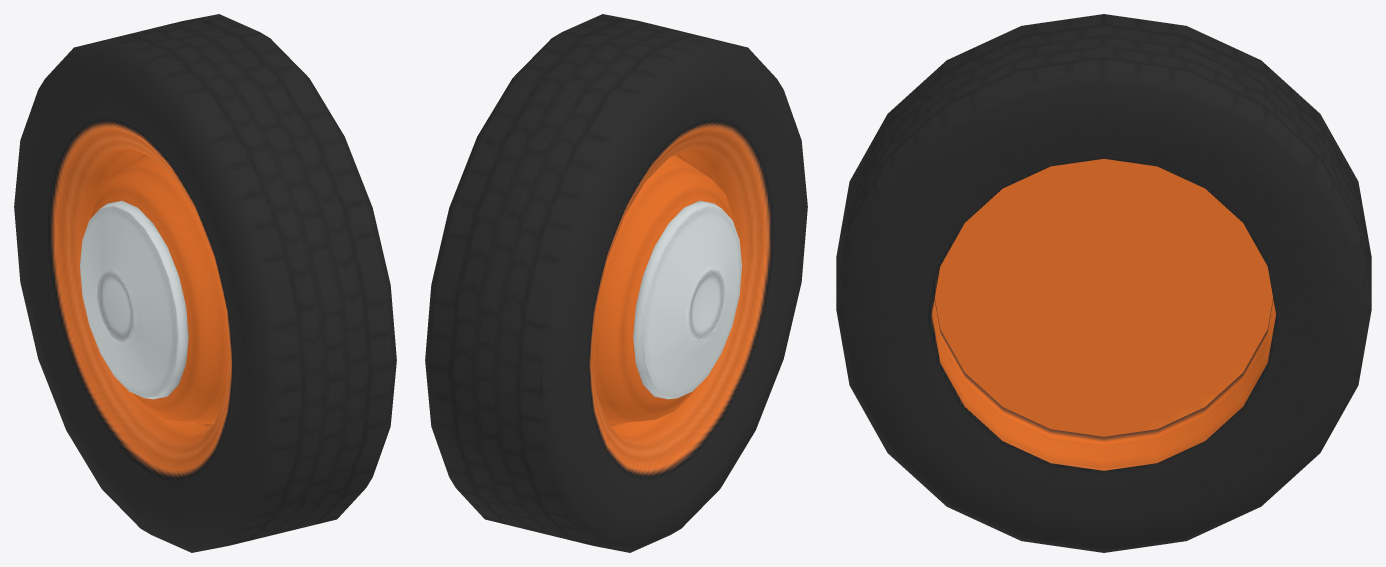
Rendered from wheel_right.glb.
3 renders of one model, left to right at view 1: azimuth 30°, elevation 25°; view 2: azimuth 150°, elevation 25°; view 3: azimuth 270°, elevation 25°, orthographic.
Parts seen in each view (by area): view 1: wheel_right; view 2: wheel_right; view 3: wheel_right.
Boxes of the visible parts, <box> form: wheel_right: <box>14,14,396,552</box>; wheel_right: <box>425,14,807,552</box>; wheel_right: <box>836,14,1371,552</box>.
Size of the model in its own units: 0.2019 by 0.5664 by 0.5664.
Materials: 1 (1 with a texture image).
